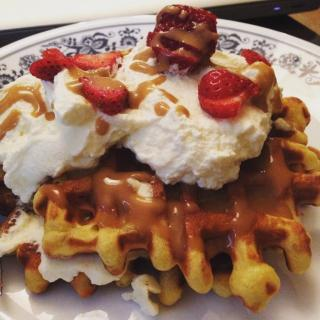Waffle: (0, 39, 319, 314)
